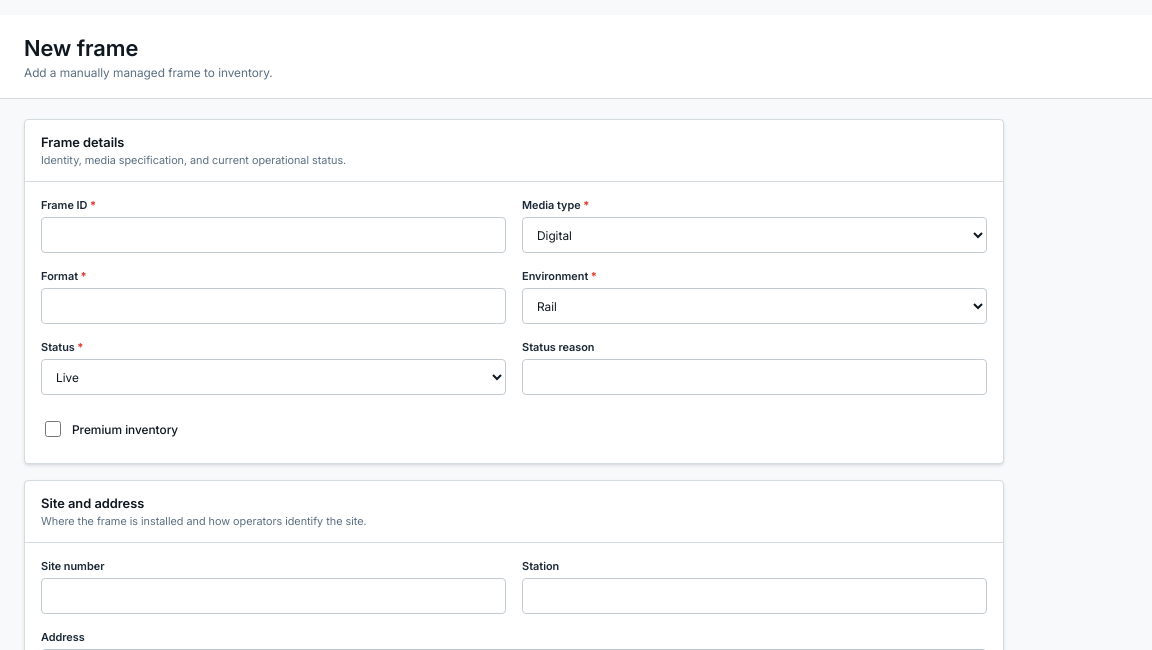
Test case: create frame › explains how to recover when the frame ID already exists
Step 1. Type "FRAME-1" into the field labelled "Frame ID *" → (274, 235), box [41, 217, 506, 253]
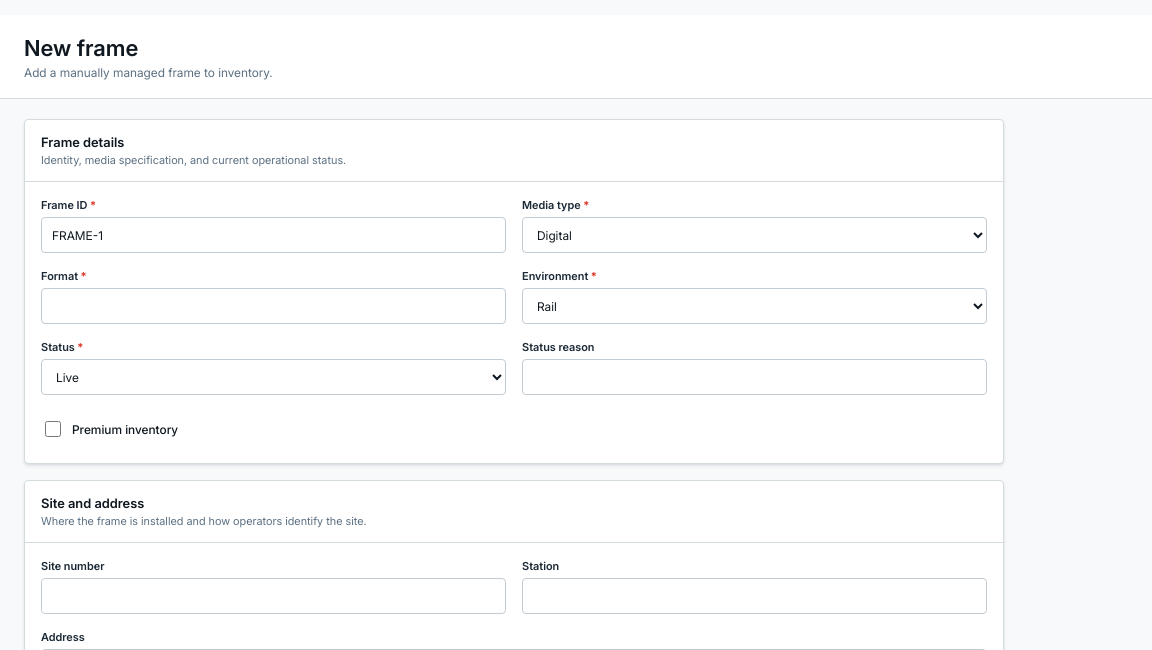
Step 2. Type "D6" into the field labelled "Format *" → (274, 306), box [41, 288, 506, 324]
(page scrolled)
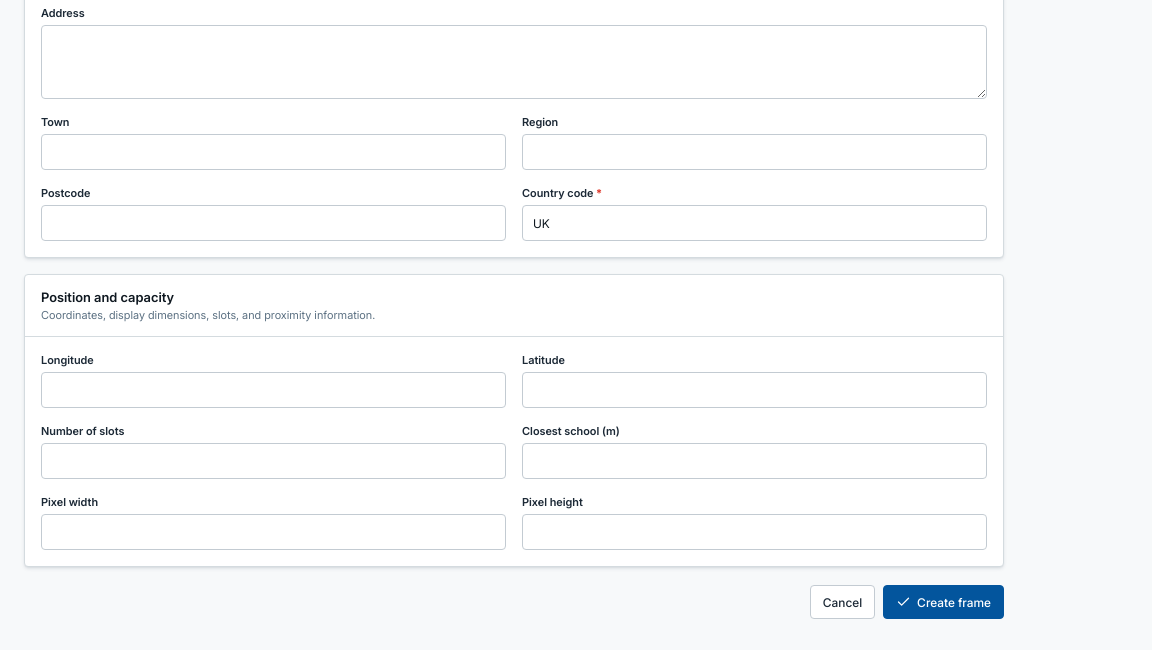
Step 3. Click the button "Create frame" → (944, 602), box [883, 585, 1004, 619]
(page scrolled)
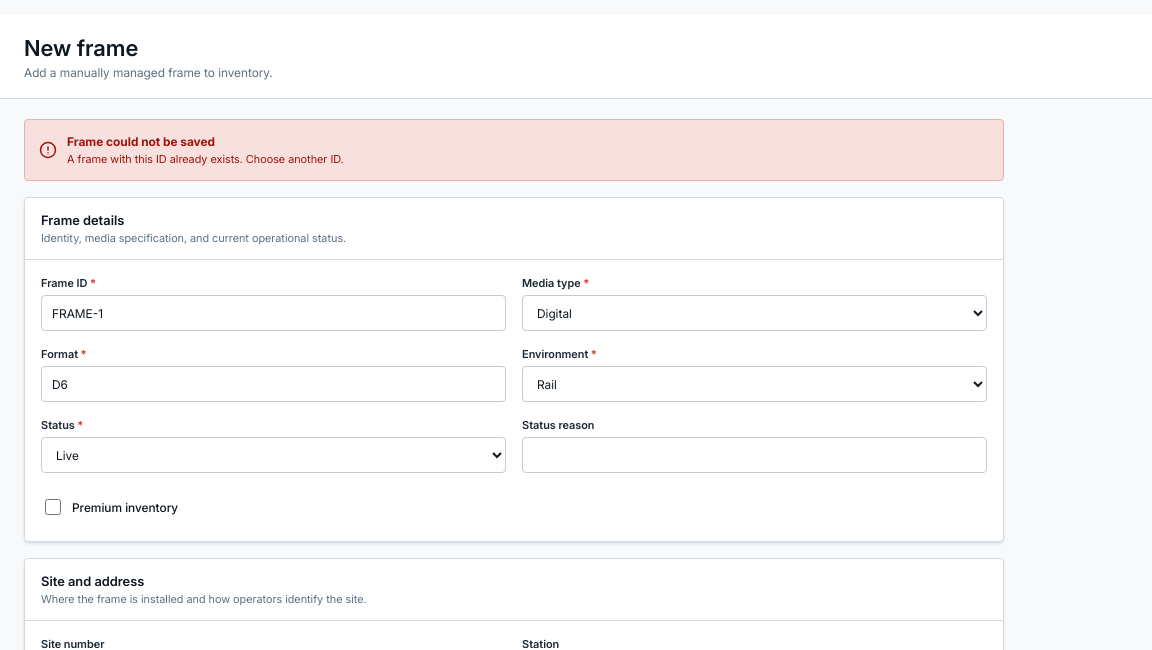
expect the text "A frame with this ID already exists. Choose another ID." is shown: met, box [67, 150, 344, 166]
